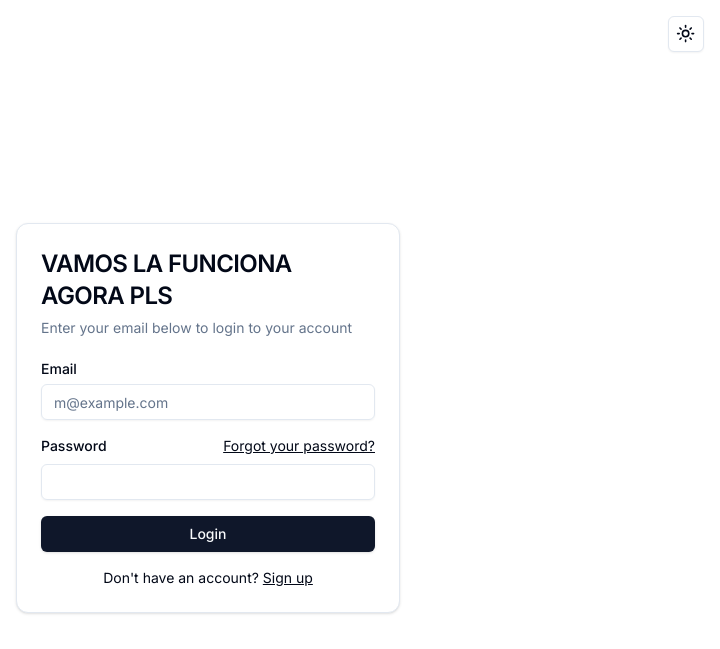
login page - Password doesn't match the validations parameters. › Should show validation errors when the password doesn't match the constraints
In the field with test id "email-input": coordinates (208, 402) [41, 384, 375, 420], type "m@gmail.com"
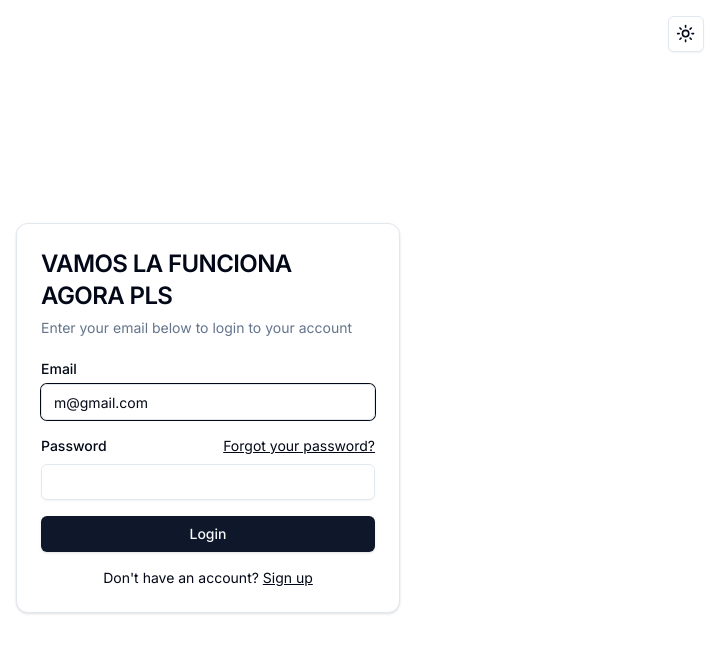
In the password field with test id "password-input": coordinates (208, 482) [41, 464, 375, 500], type "m20"
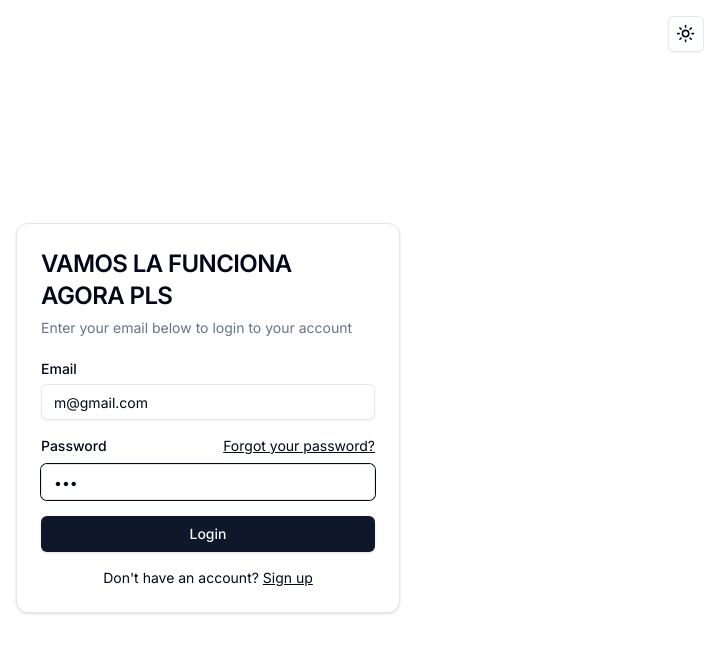
Click the button with test id "submit-login-btn": coordinates (208, 534) [41, 516, 375, 552]
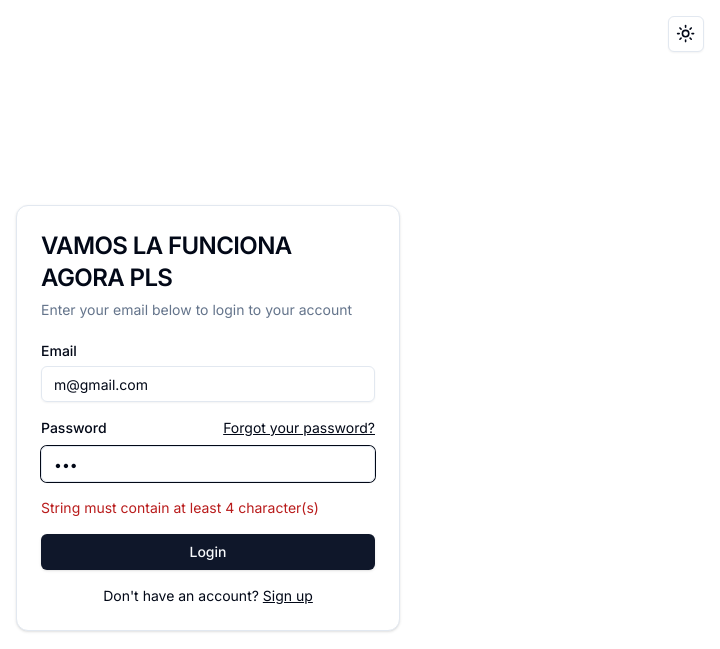
Expected: the text "String must contain at least 4 character(s)" is shown, [41, 499, 319, 516]
